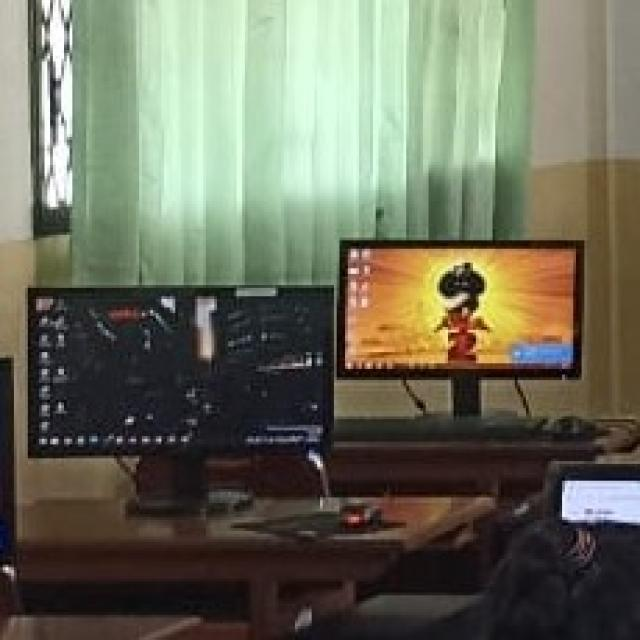onscreen: (29, 289, 333, 456), (339, 241, 581, 377)
